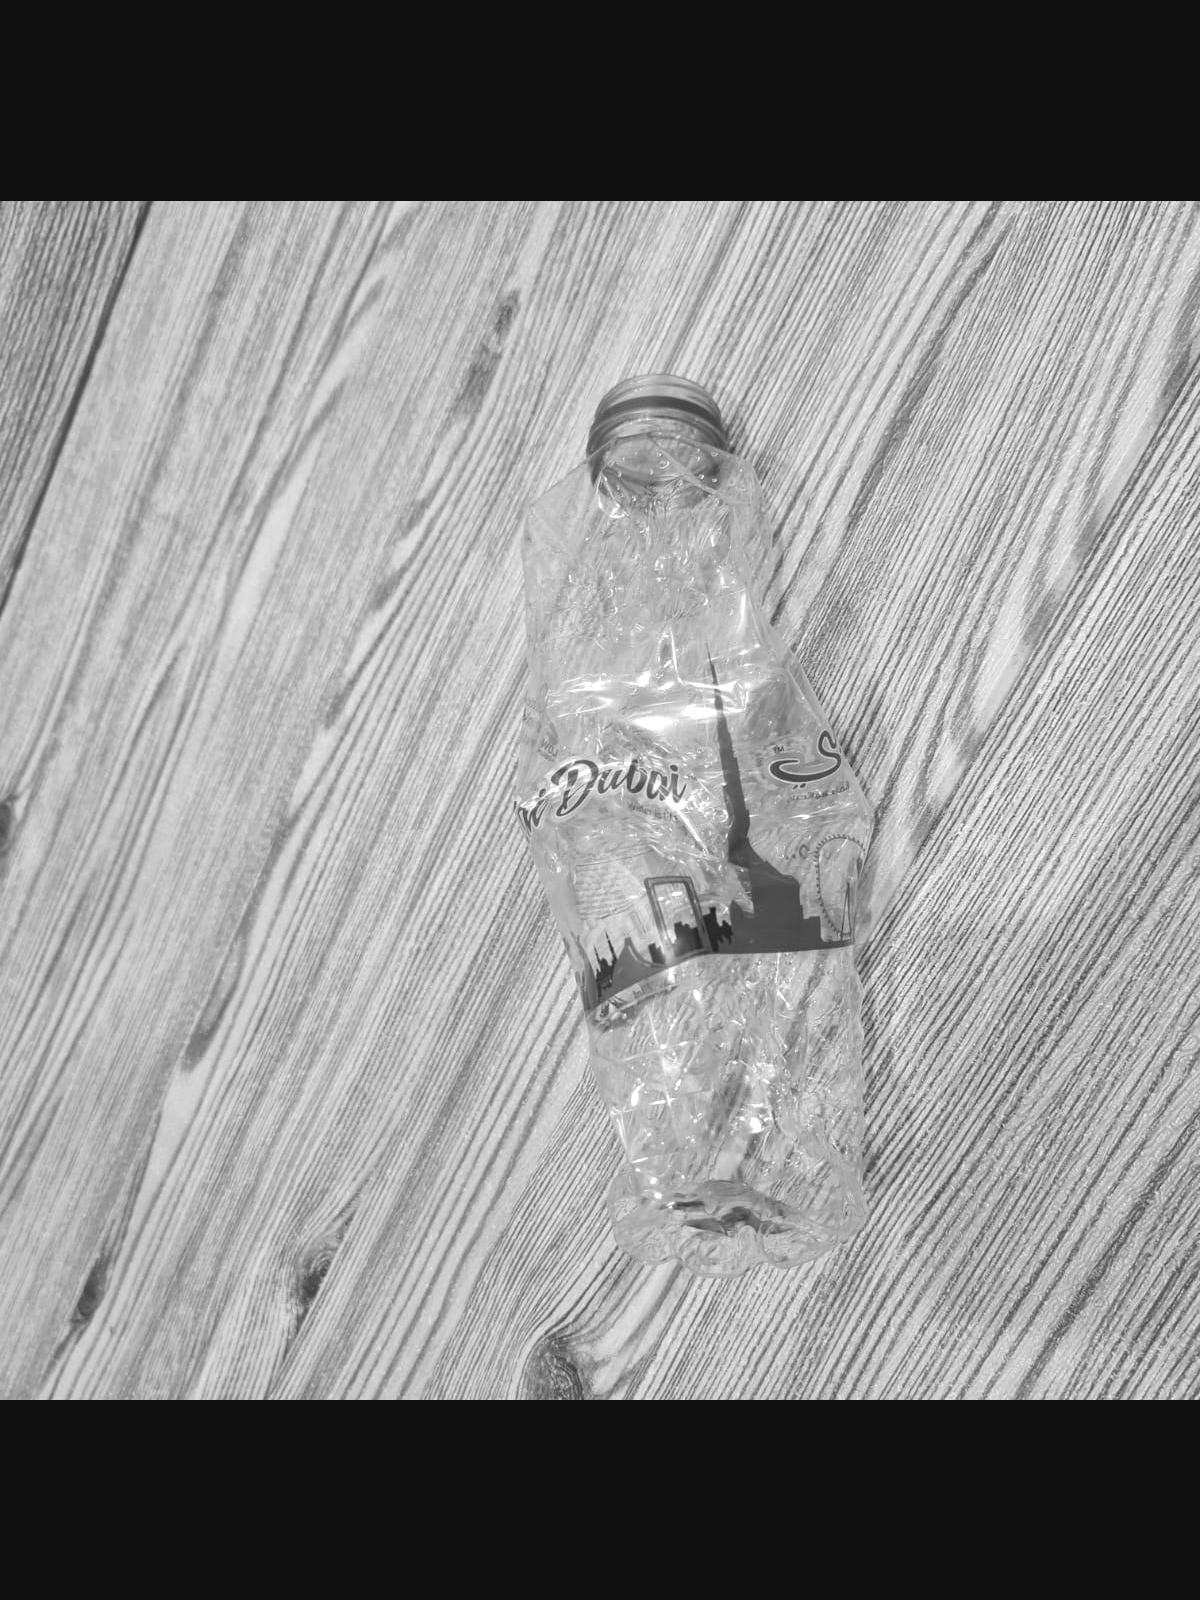bottle: (517, 372, 884, 1283)
